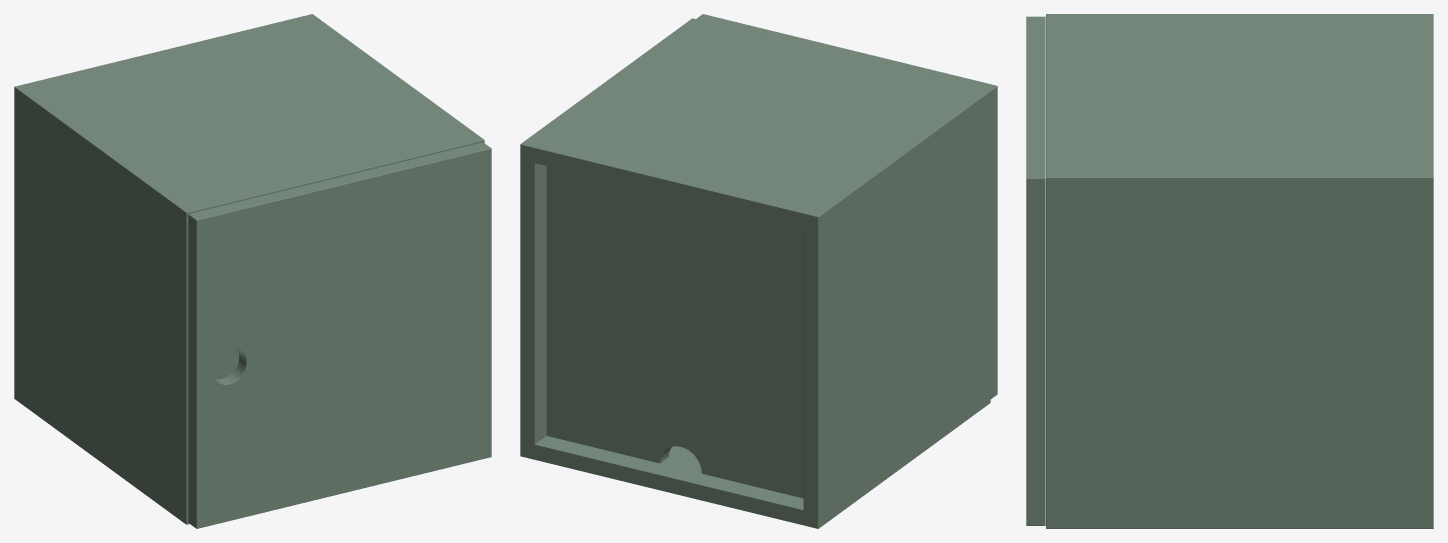
The model's file is MOD_1X1_D_B_IZQ_AP_VA.glb.
3 views of the same model, side by side, from view 1: azimuth 30°, elevation 25°; view 2: azimuth 150°, elevation 25°; view 3: azimuth 270°, elevation 25° (orthographic). The views are drawn at different scales.
Size of the model in its own units: 360 by 360 by 378.
